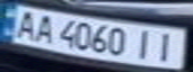0: (106, 25, 130, 57), (72, 20, 93, 52)
4: (54, 17, 78, 48)
6: (90, 22, 112, 55)
A: (9, 8, 42, 39), (30, 12, 60, 44)
I: (151, 29, 184, 63), (130, 27, 160, 61)
